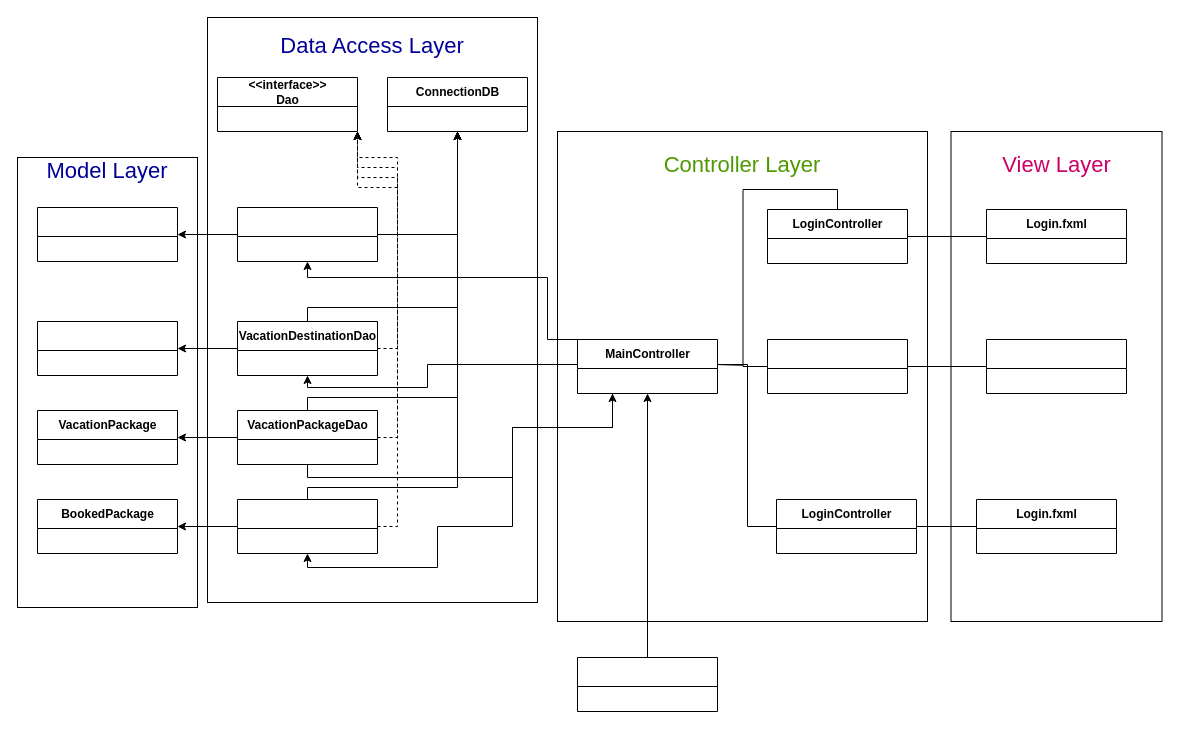
This 1180x729 diagram has some shape labels left out. The centre of each missing label's shape, as x and y in pixels:
"AgencyView.fxml" belongs at point 1056,366.
"BookedPackageDao" belongs at point 307,526.
"Main" belongs at point 647,684.
"User" belongs at point 107,234.
"UserController" belongs at point 837,366.
"UserDao" belongs at point 307,234.
"VacationDestination" belongs at point 107,348.
